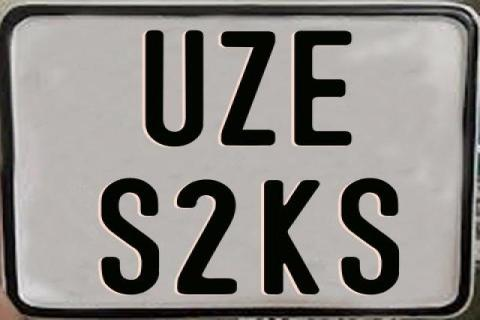0: (174, 177, 238, 293)
E: (294, 28, 353, 144)
K: (264, 178, 320, 294)
S: (100, 176, 161, 294), (341, 176, 399, 295)
U: (145, 31, 204, 149)
Z: (219, 29, 279, 149)
